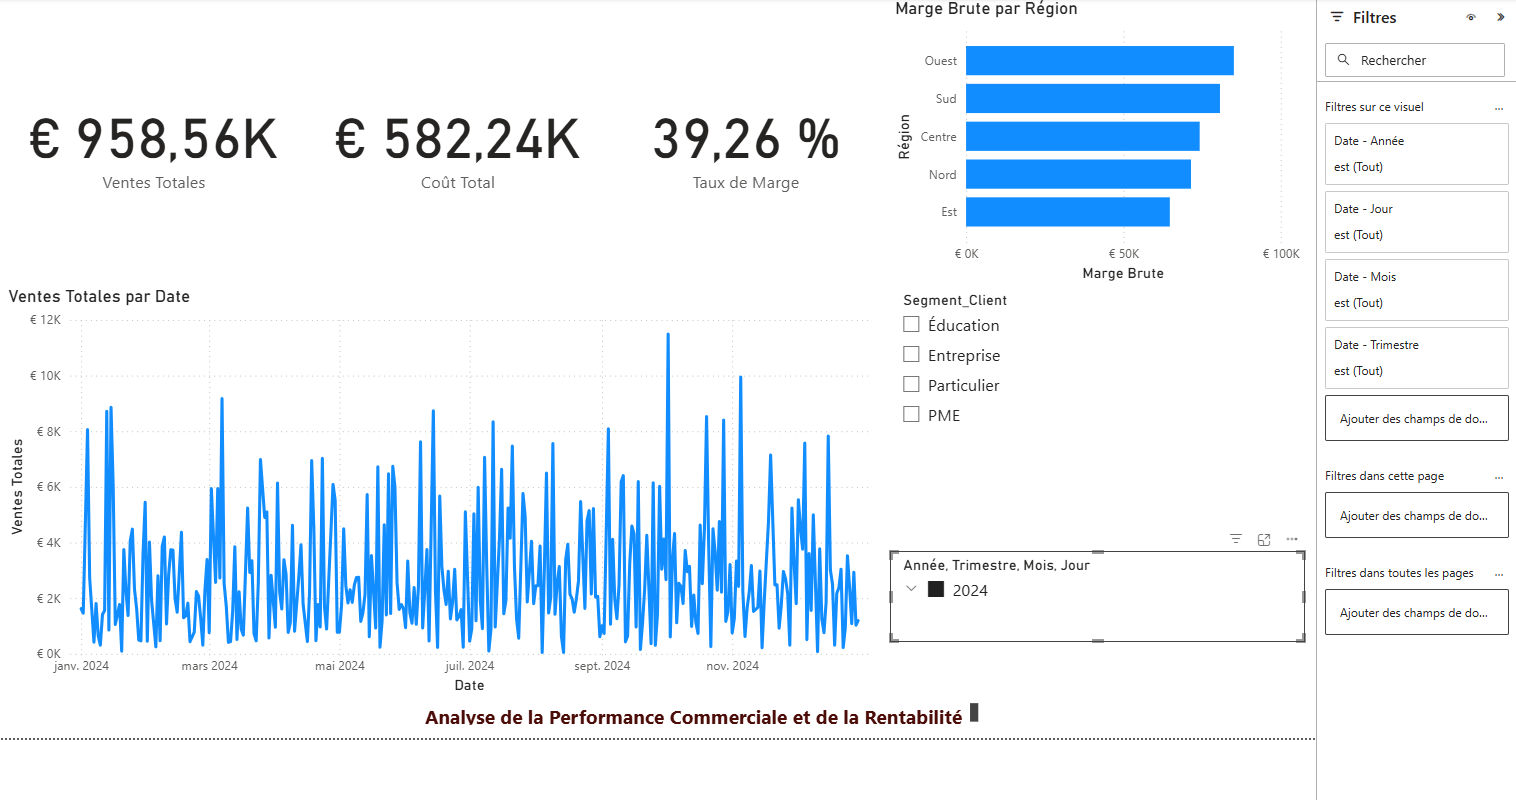

What the dashboard file says about the page in this screenshot:
{"tool":"powerbi","page":{"name":"Page 1","canvas":[1280,720],"ordinal":0},"visuals":[{"type":"card","fields":{"Values":["Sheet1.Ventes Totales"]},"box":[10,0,280,280],"z":0},{"type":"card","fields":{"Values":["Sheet1.Coût Total"]},"box":[305.4,0,280.1,280.1],"z":1},{"type":"card","fields":{"Values":["Sheet1.Taux de Marge"]},"box":[585.5,0,280.1,280.1],"z":2},{"type":"lineChart","fields":{"Y":["Sheet1.Ventes Totales"],"Category":["Calendrier.Date"]},"box":[2.9,280.1,862.7,400.7],"z":3},{"type":"clusteredBarChart","fields":{"Category":["Sheet1.Région"],"Y":["Sheet1.Marge Brute"]},"box":[866,0,404,280],"z":4},{"type":"slicer","fields":{"Values":["Sheet1.Segment_Client"]},"box":[865.7,280.1,404.6,257.8],"z":5},{"type":"slicer","fields":{"Values":["Calendrier.Date.Variation.Hiérarchie de dates.Année","Calendrier.Date.Variation.Hiérarchie de dates.Trimestre","Calendrier.Date.Variation.Hiérarchie de dates.Mois","Calendrier.Date.Variation.Hiérarchie de dates.Jour"]},"box":[865.7,537.9,403.6,88.5],"z":6},{"type":"textbox","box":[408.5,680.9,547.6,31.1],"z":7}]}

Visuals, with their boxes on the page's 1280x720 design canvas (x1, y1, x2, y2). These are canvas units, not pixel positions in the 1516x800 screenshot, which may show the page scaled, cropped or inside an application window:
card - Sheet1.Ventes Totales: 10 0 290 280
card - Sheet1.Coût Total: 305 0 586 280
card - Sheet1.Taux de Marge: 586 0 866 280
lineChart - Sheet1.Ventes Totales x Calendrier.Date: 3 280 866 681
clusteredBarChart - Sheet1.Région x Sheet1.Marge Brute: 866 0 1270 280
slicer - Sheet1.Segment_Client: 866 280 1270 538
slicer - Calendrier.Date.Variation.Hiérarchie de dates.Année x Calendrier.Date.Variation.Hiérarchie de dates.Trimestre: 866 538 1269 626
textbox: 408 681 956 712
